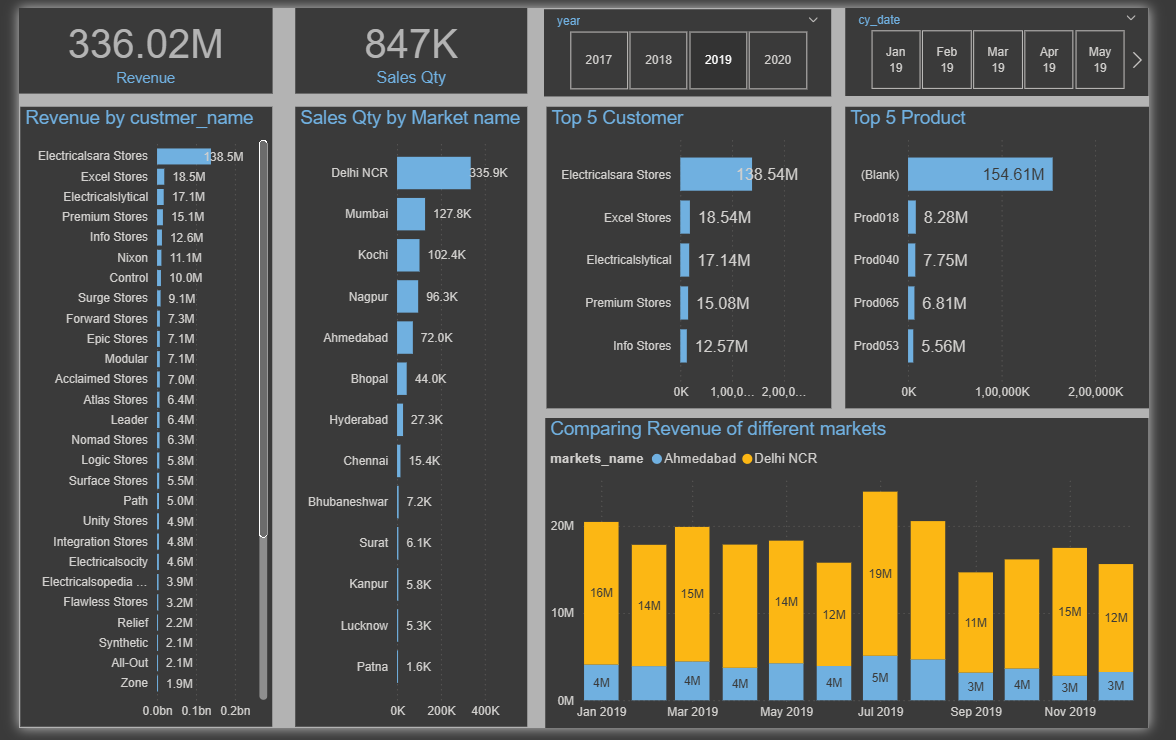

Layout of this report page (visuals, bound fields, positions):
{"tool":"powerbi","page":{"name":"Page 1","canvas":[1130,720],"ordinal":0},"visuals":[{"type":"card","fields":{"Values":["BaseMeasurw.Revenue"]},"box":[0,0,253.6,85.4],"z":0},{"type":"card","fields":{"Values":["BaseMeasurw.Sales Qty"]},"box":[276.2,0,232.3,85.4],"z":1000},{"type":"barChart","fields":{"Y":["BaseMeasurw.Revenue"],"Category":["sales customers.custmer_name"]},"box":[1.3,99.2,252.4,620.2],"z":2000},{"type":"barChart","title":"Sales Qty by Market name","fields":{"Y":["BaseMeasurw.Sales Qty"],"Category":["sales markets.markets_name"]},"box":[276.2,99.2,232.3,620.2],"z":3000},{"type":"slicer","fields":{"Values":["sales date.year"]},"box":[525.6,1.2,286.8,87.4],"z":4000},{"type":"slicer","fields":{"Values":["sales date.cy_date"]},"box":[826.7,0,303.3,87.8],"z":5000},{"type":"barChart","title":"Top 5 Customer","fields":{"Category":["sales customers.custmer_name"],"Y":["BaseMeasurw.Revenue"]},"box":[527.3,99.2,285,301.3],"z":6000},{"type":"barChart","title":"Top 5 Product","fields":{"Y":["BaseMeasurw.Revenue"],"Category":["sales products.product_code"]},"box":[826.2,99.2,303.8,301.3],"z":7000},{"type":"columnChart","title":"Comparing Revenue of different markets","fields":{"Category":["sales date.cy_date"],"Y":["BaseMeasurw.Revenue"],"Series":["sales markets.markets_name"]},"box":[526.8,409.9,603.2,310.2],"z":9000}]}

Visuals, with their boxes in screenshot pixels (x1, y1, x2, y2), scaled from the page's 1130x720 canvas onto the 1176x740 screenshot:
card - BaseMeasurw.Revenue: locate(0, 0, 264, 88)
card - BaseMeasurw.Sales Qty: locate(287, 0, 529, 88)
barChart - BaseMeasurw.Revenue x sales customers.custmer_name: locate(1, 102, 264, 739)
"Sales Qty by Market name" barChart: locate(287, 102, 529, 739)
slicer - sales date.year: locate(547, 1, 845, 91)
slicer - sales date.cy_date: locate(860, 0, 1175, 90)
"Top 5 Customer" barChart: locate(549, 102, 845, 412)
"Top 5 Product" barChart: locate(860, 102, 1175, 412)
"Comparing Revenue of different markets" columnChart: locate(548, 421, 1175, 739)
